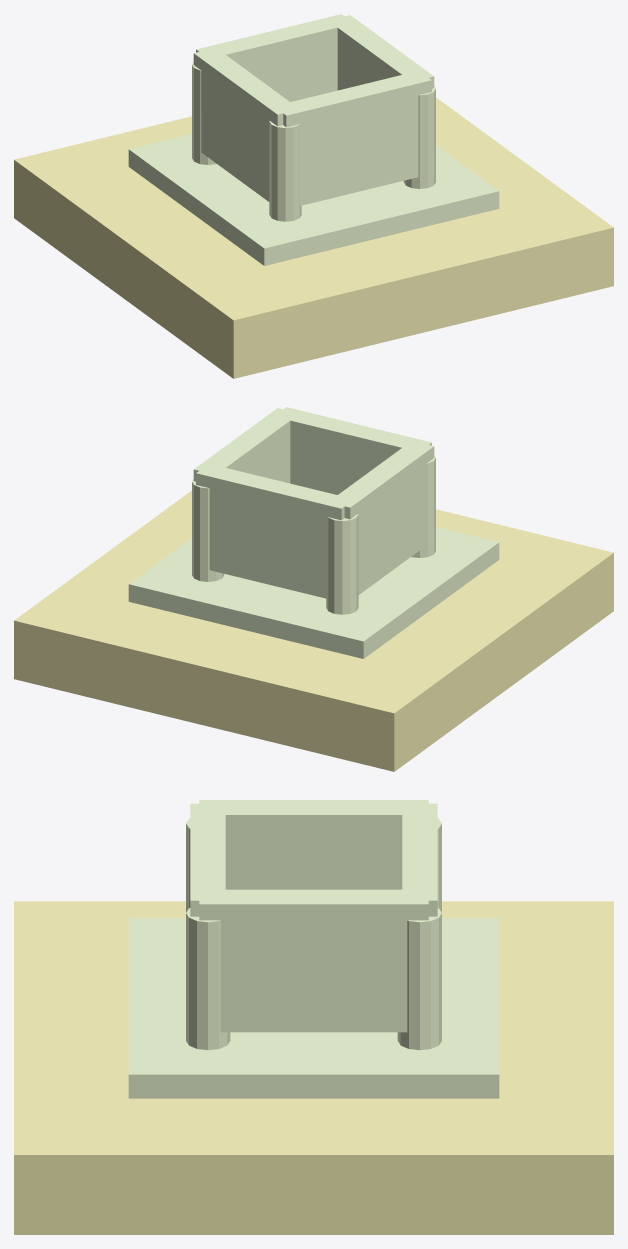
The model's file is furniture_signal_cantilever_anchor_cage.glb.
3 views of the same model, one above another, from view 1: azimuth 30°, elevation 25°; view 2: azimuth 150°, elevation 25°; view 3: azimuth 270°, elevation 25° (orthographic). The views are drawn at different scales.
Parts seen in each view (by area): view 1: concrete_pedestal, base_plate, cage_bar_front, cage_bar_left, cage_bar_back, cage_bar_right, bolt_sw, bolt_se, bolt_nw; view 2: concrete_pedestal, base_plate, cage_bar_back, cage_bar_left, cage_bar_front, cage_bar_right, bolt_nw, bolt_ne, bolt_sw; view 3: concrete_pedestal, base_plate, cage_bar_right, cage_bar_left, bolt_ne, bolt_se, cage_bar_back, cage_bar_front.
Boxes of the visible parts, x1=… form: concrete_pedestal: x1=14, y1=97, x2=613, y2=378; base_plate: x1=128, y1=134, x2=499, y2=265; cage_bar_front: x1=278, y1=73, x2=431, y2=205; cage_bar_left: x1=193, y1=49, x2=299, y2=201; cage_bar_back: x1=196, y1=14, x2=352, y2=101; cage_bar_right: x1=328, y1=15, x2=434, y2=90; bolt_sw: x1=269, y1=121, x2=301, y2=221; bolt_se: x1=403, y1=86, x2=435, y2=188; bolt_nw: x1=192, y1=62, x2=216, y2=164; concrete_pedestal: x1=14, y1=490, x2=613, y2=771; base_plate: x1=128, y1=527, x2=499, y2=658; cage_bar_back: x1=196, y1=468, x2=348, y2=598; cage_bar_left: x1=328, y1=441, x2=434, y2=594; cage_bar_front: x1=277, y1=407, x2=431, y2=494; cage_bar_right: x1=193, y1=408, x2=299, y2=483; bolt_nw: x1=326, y1=514, x2=358, y2=614; bolt_ne: x1=192, y1=479, x2=224, y2=581; bolt_sw: x1=411, y1=455, x2=435, y2=557; concrete_pedestal: x1=14, y1=901, x2=613, y2=1234; base_plate: x1=128, y1=918, x2=499, y2=1098; cage_bar_right: x1=199, y1=889, x2=428, y2=1032; cage_bar_left: x1=199, y1=800, x2=428, y2=889; bolt_ne: x1=397, y1=908, x2=441, y2=1050; bolt_se: x1=186, y1=908, x2=230, y2=1050; cage_bar_back: x1=402, y1=803, x2=437, y2=916; cage_bar_front: x1=190, y1=803, x2=225, y2=916.
Bounding box in the file's own units: 0.68 × 0.32 × 0.68.
